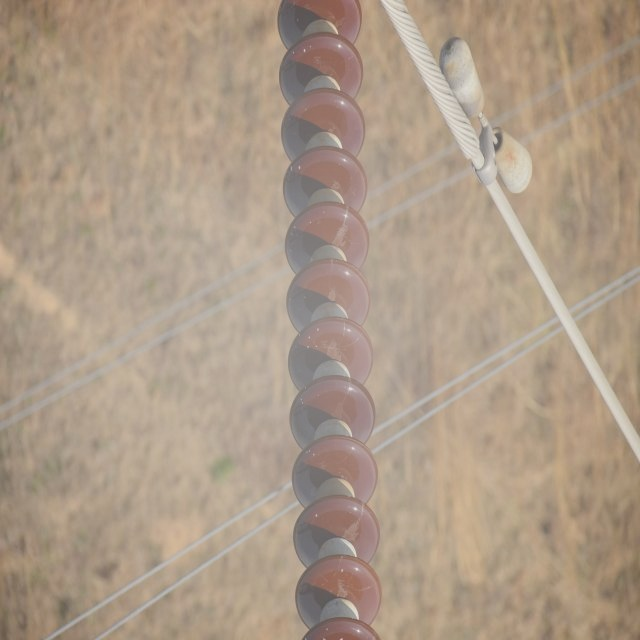insulator: (276, 2, 384, 639)
